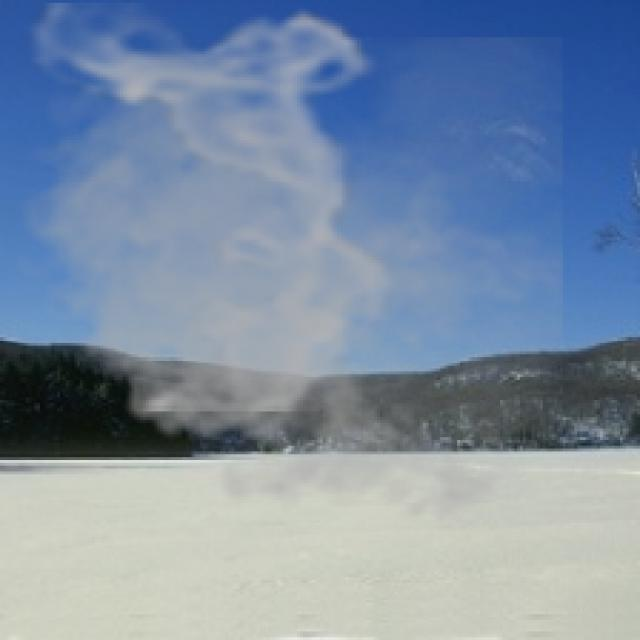smoke: (3, 3, 563, 537)
